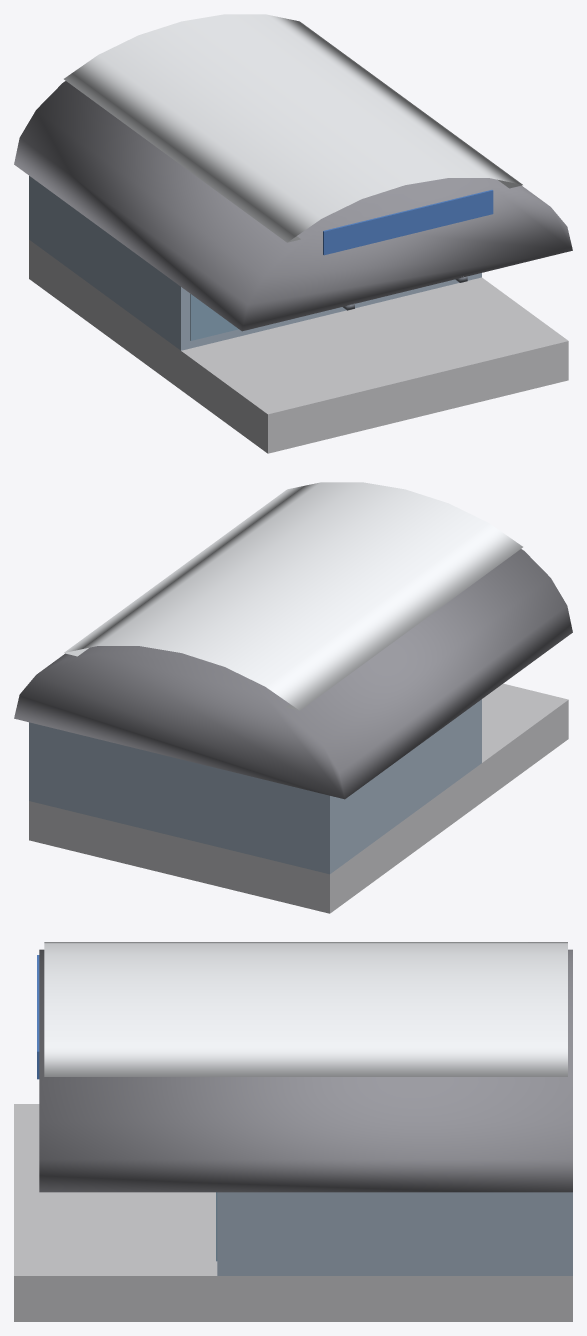
File: gondola_station.glb
3 views of the same model, one above another, from view 1: azimuth 30°, elevation 25°; view 2: azimuth 150°, elevation 25°; view 3: azimuth 270°, elevation 25° (orthographic). The views are drawn at different scales.
Parts seen in each view (by area): view 1: gondola_station; view 2: gondola_station; view 3: gondola_station.
Part boxes in pixels (x1,y1,x2,y2): gondola_station: [14, 14, 572, 453]; gondola_station: [14, 482, 572, 913]; gondola_station: [14, 942, 572, 1321].
Bounding box in the file's own units: 17.6 × 11.3 × 22.
